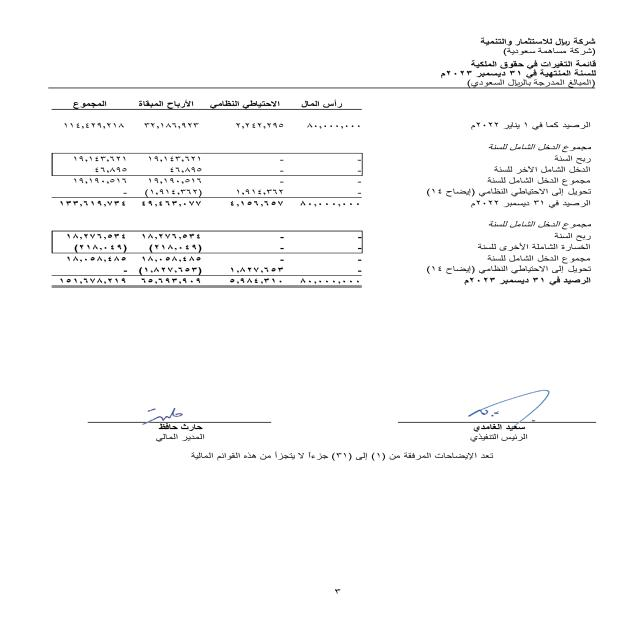financial_sheets: (467, 57, 603, 68)
table: (19, 83, 389, 308)
